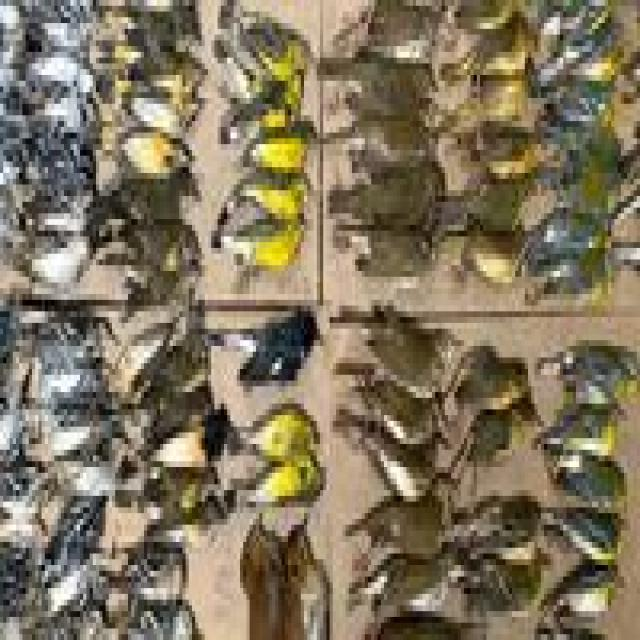Bangkai Burung: (53, 46, 634, 605)
